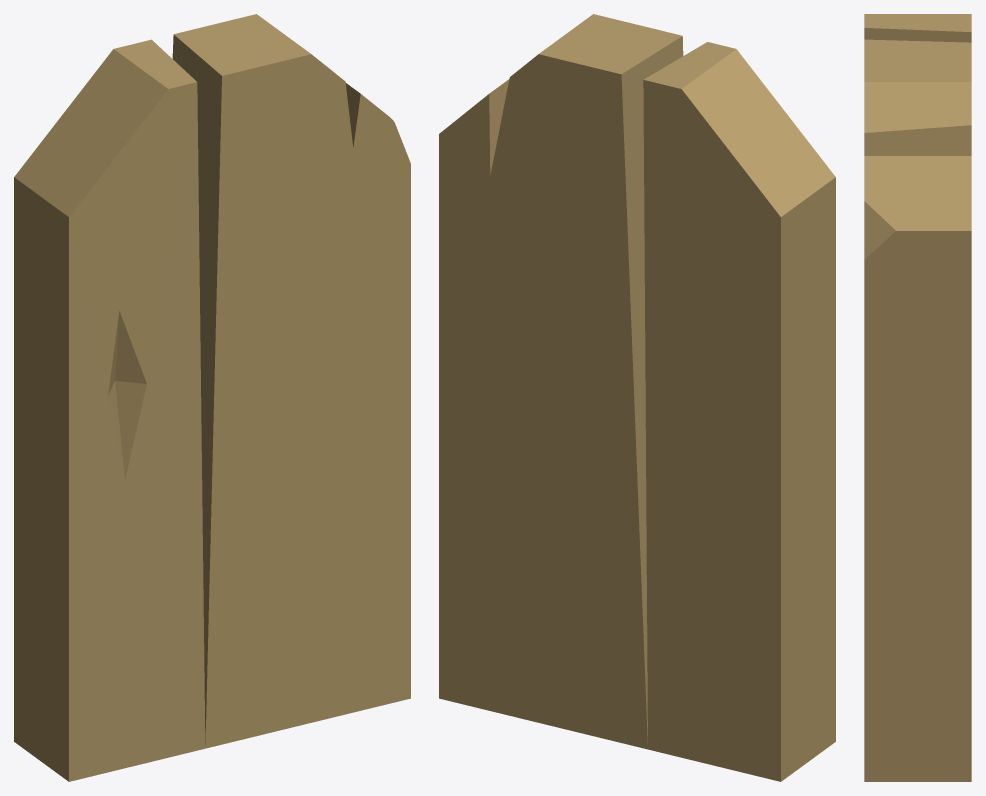
File: tombstone_5.fbx
3 views of the same model, side by side, from view 1: azimuth 30°, elevation 25°; view 2: azimuth 150°, elevation 25°; view 3: azimuth 270°, elevation 25° (orthographic). The views are drawn at different scales.
Visible parts, largest first — view 1: tombstone4; view 2: tombstone4; view 3: tombstone4.
Part boxes in pixels (box(x1,y1,x2,y2)): tombstone4: box(14, 14, 410, 781); tombstone4: box(439, 14, 835, 781); tombstone4: box(864, 14, 971, 781).
Bounding box in the file's own units: 0.5433 × 1.02 × 0.1511.
